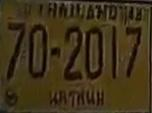0: (28, 23, 47, 78), (84, 26, 103, 78)
1: (112, 26, 117, 79)
2: (64, 26, 83, 81)
7: (7, 22, 27, 78), (125, 26, 141, 76)
NPM: (44, 85, 107, 109)
